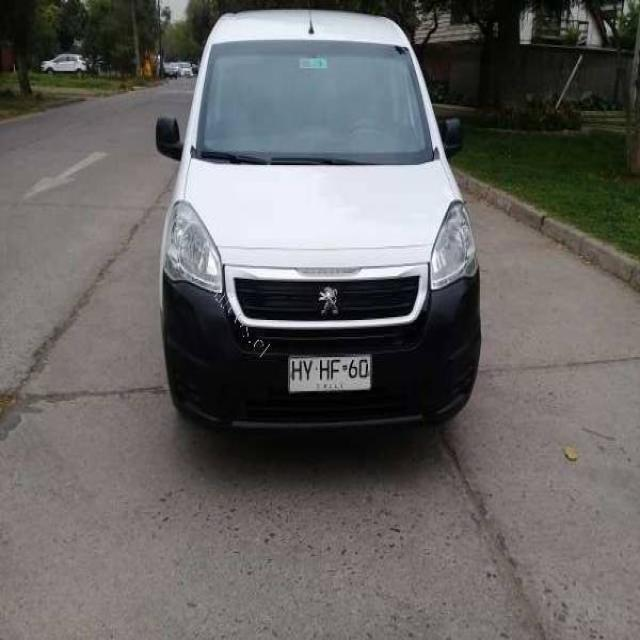patente: (286, 351, 373, 394)
